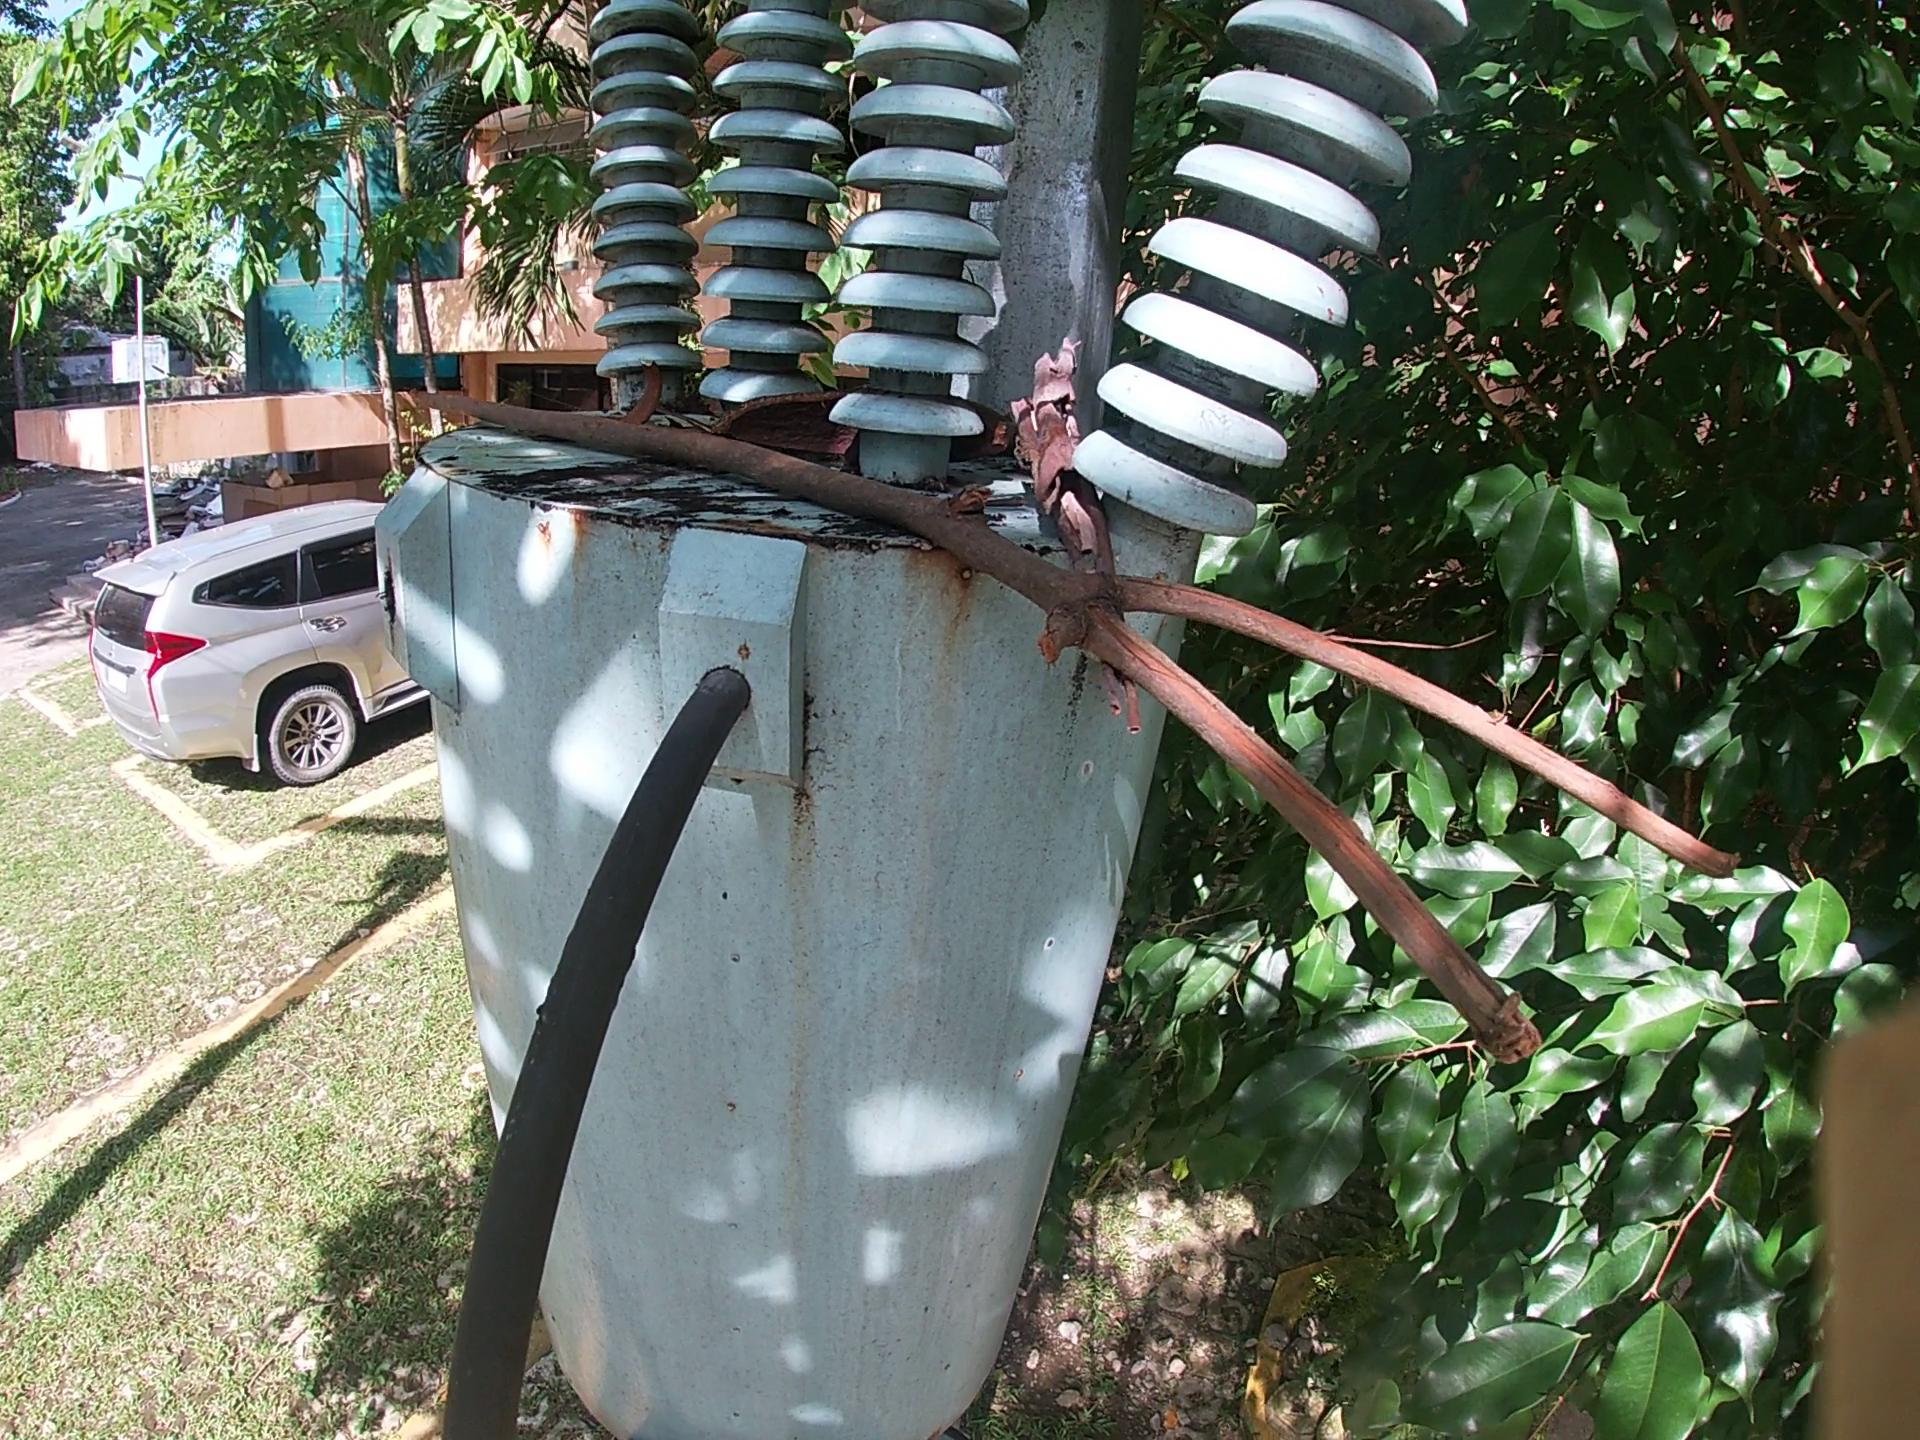mahogany fruit: (703, 393, 874, 458), (949, 399, 1023, 463), (608, 369, 671, 414)
tree branch: (416, 386, 1776, 1113), (1014, 358, 1157, 685)
